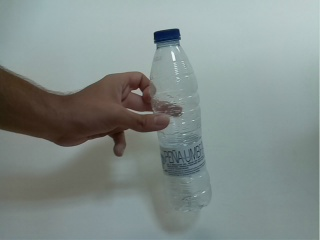botella plastico: (148, 28, 214, 210)
